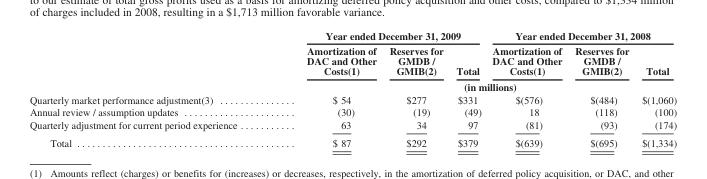table: (28, 29, 676, 148)
table column: (28, 29, 271, 148), (271, 29, 382, 148), (486, 29, 567, 148), (382, 29, 449, 148), (567, 29, 634, 148), (634, 29, 676, 148), (449, 29, 486, 148)
table column header: (28, 29, 676, 92)
table row: (28, 42, 676, 78), (28, 118, 676, 133), (28, 133, 676, 148), (28, 78, 676, 92), (28, 29, 676, 42), (28, 92, 676, 105), (28, 105, 676, 118)
table spanning cell: (271, 78, 676, 92), (271, 29, 486, 42), (486, 29, 676, 42)
